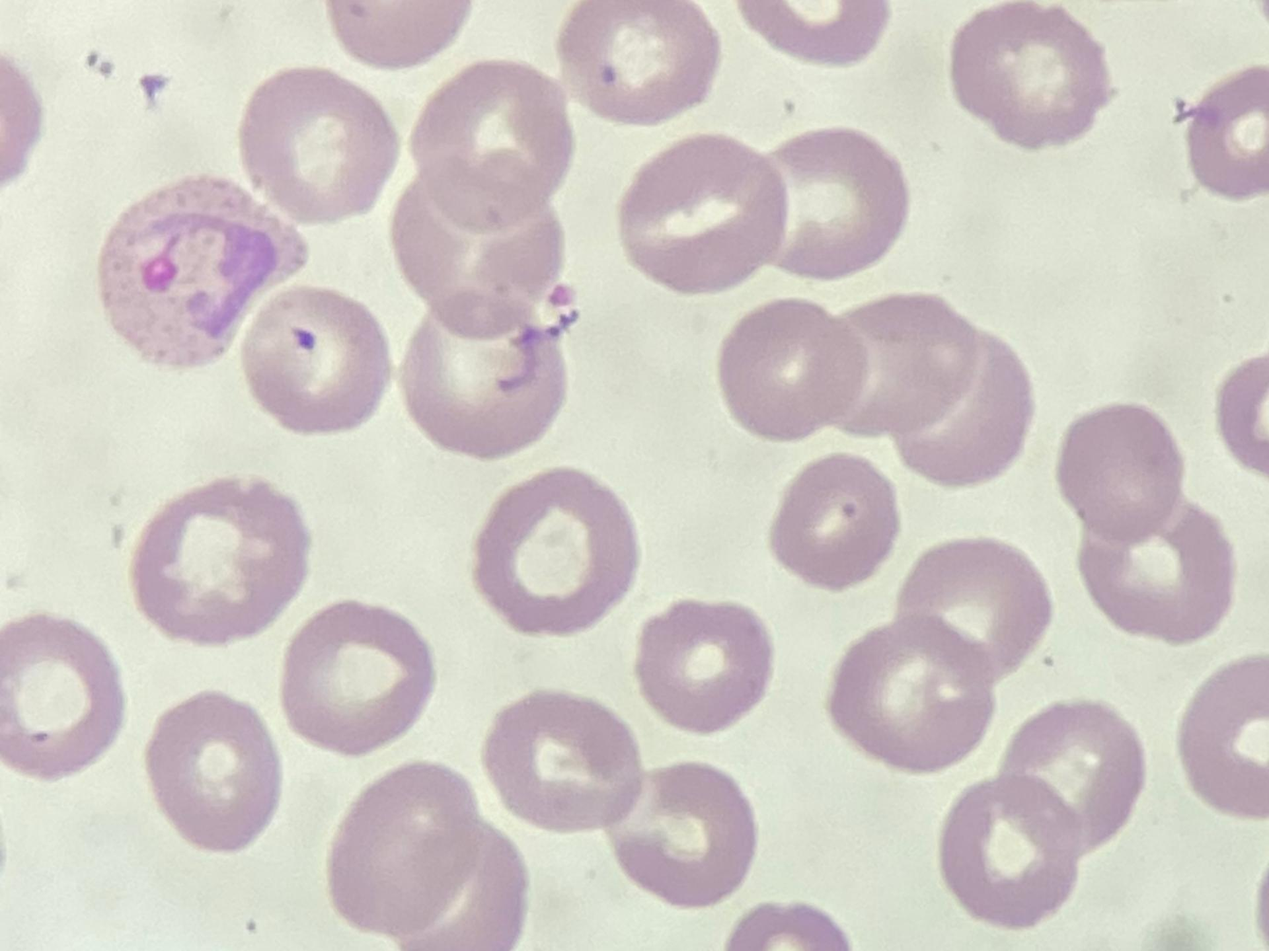Infected: (99, 175, 304, 365)
Uninfected: (326, 768, 519, 948), (132, 480, 306, 642), (393, 180, 564, 338), (473, 469, 636, 632), (411, 62, 573, 222), (621, 142, 786, 298), (238, 67, 397, 223), (401, 313, 568, 459), (831, 620, 994, 769), (278, 603, 432, 753), (950, 3, 1108, 146), (241, 285, 389, 432), (837, 292, 981, 442), (145, 695, 282, 851), (485, 691, 640, 828), (894, 330, 1032, 483), (718, 296, 861, 442), (767, 128, 905, 278), (1079, 504, 1229, 642), (940, 779, 1081, 924), (894, 539, 1047, 672), (611, 765, 751, 907), (0, 617, 125, 775), (1003, 704, 1137, 848), (558, 0, 714, 123), (1058, 404, 1187, 541), (771, 453, 900, 588), (636, 601, 768, 730), (1180, 656, 1265, 816), (1182, 64, 1269, 198)
